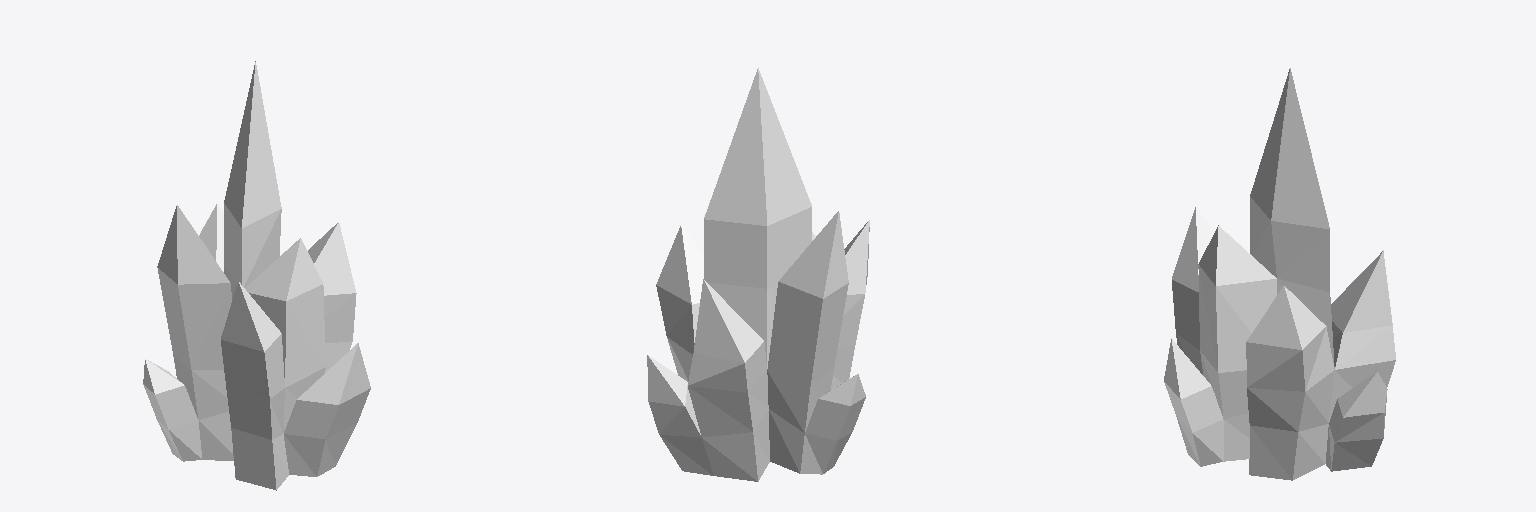
The model's file is crystal.obj.
The picture shows the model from 3 angles: view 1: azimuth 30°, elevation 25°; view 2: azimuth 150°, elevation 25°; view 3: azimuth 270°, elevation 25°; orthographic projection.
Visible parts, largest first — view 1: L0.003_Mesh.009; view 2: L0.003_Mesh.009; view 3: L0.003_Mesh.009.
Part boxes in pixels (x1,y1,x2,y2): L0.003_Mesh.009: (143,61,370,490); L0.003_Mesh.009: (647,68,869,481); L0.003_Mesh.009: (1164,68,1395,480).
Bounding box in the file's own units: 0.0284 × 0.0516 × 0.0284.